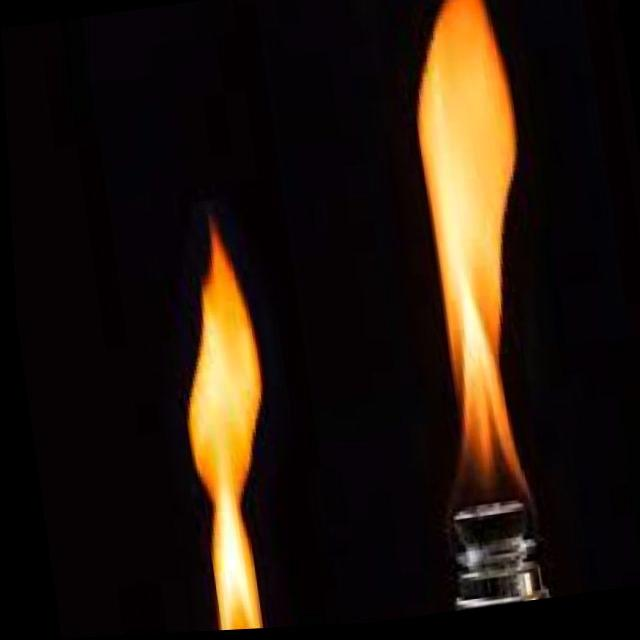fire: (369, 0, 577, 540), (84, 184, 320, 636)
